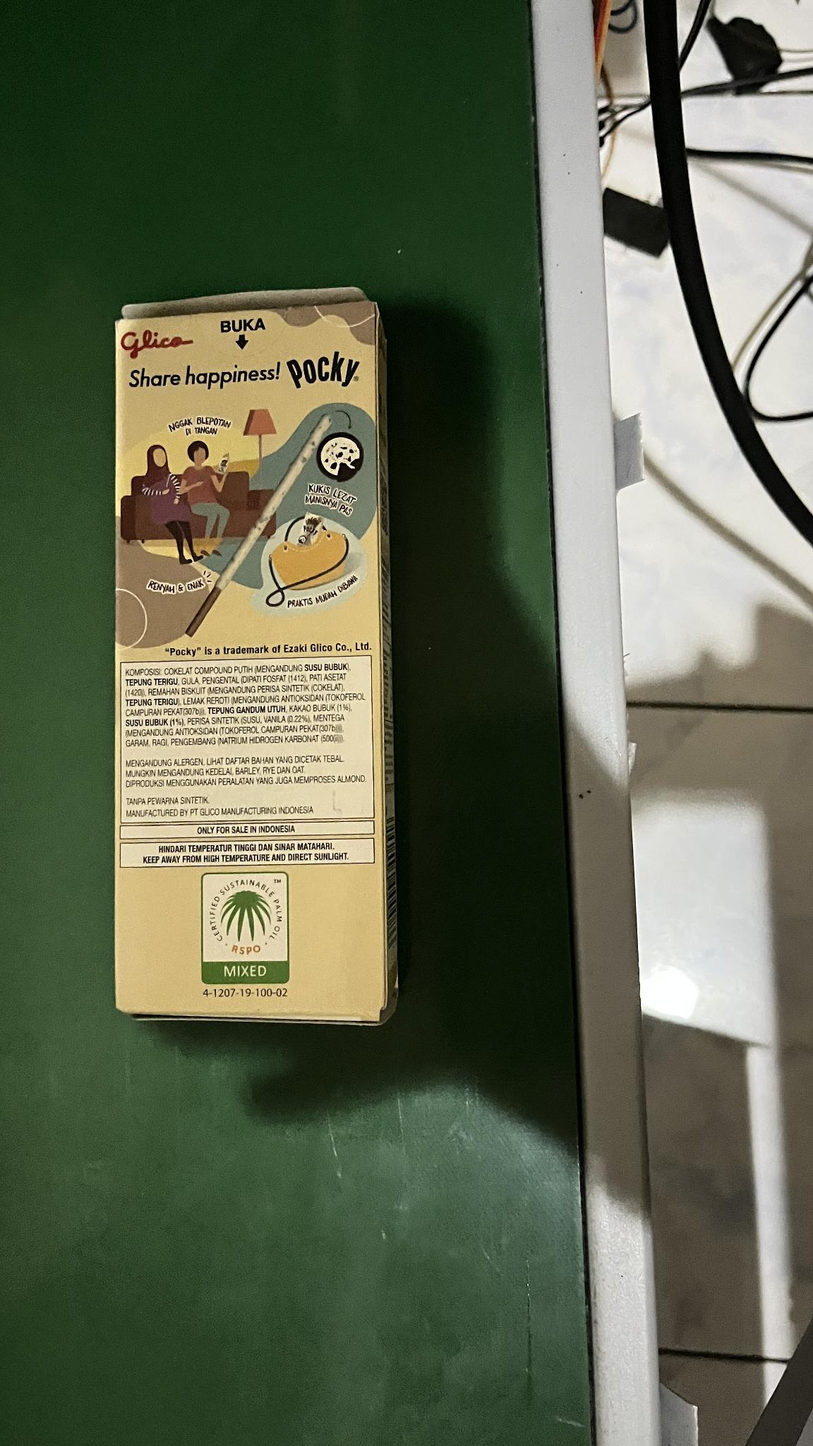Kertas: (108, 312, 398, 1036)
